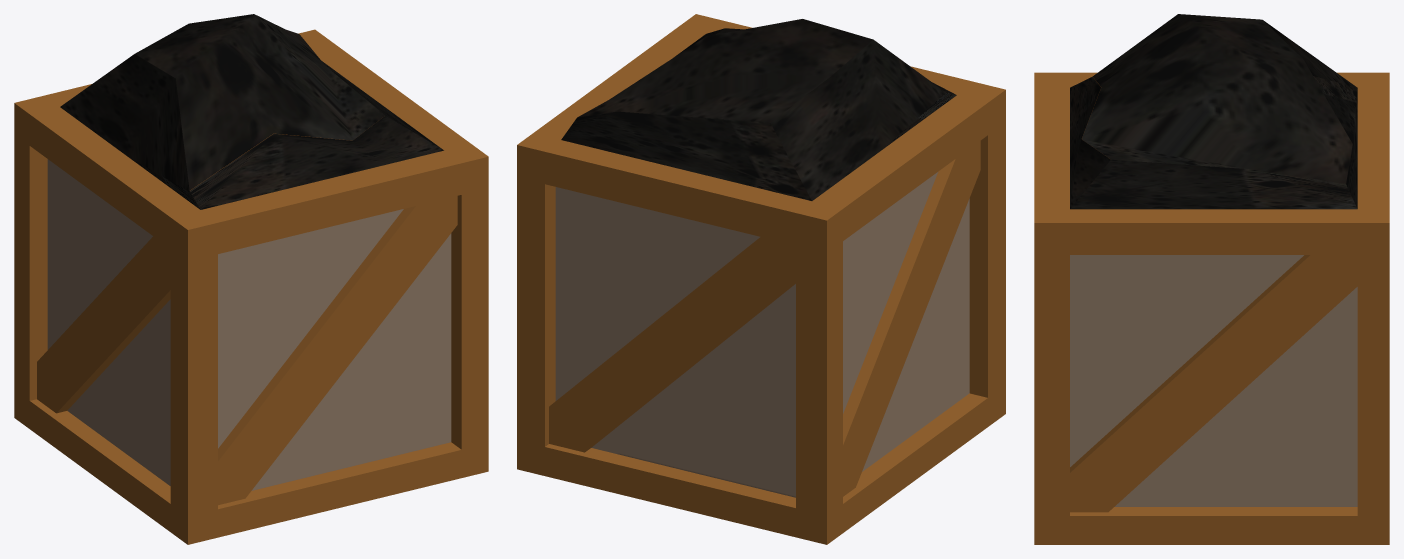
File: CoalBoxFull.fbx
The picture shows the model from 3 angles, left to right: view 1: azimuth 30°, elevation 25°; view 2: azimuth 150°, elevation 25°; view 3: azimuth 270°, elevation 25°; orthographic projection. The views are drawn at different scales.
Visible parts, largest first — view 1: pCube7; view 2: pCube7; view 3: pCube7.
Part boxes in pixels (x1,y1,x2,y2): pCube7: (14, 14, 488, 544); pCube7: (517, 14, 1005, 544); pCube7: (1034, 14, 1389, 544).
Bounding box in the file's own units: 1 × 1.32 × 1.
